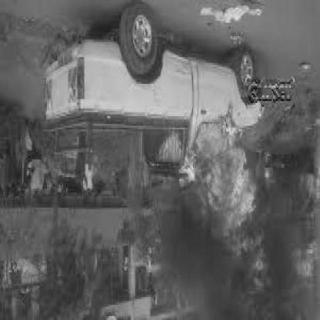Fire: (171, 114, 257, 288)
Smoke: (158, 238, 308, 314)
